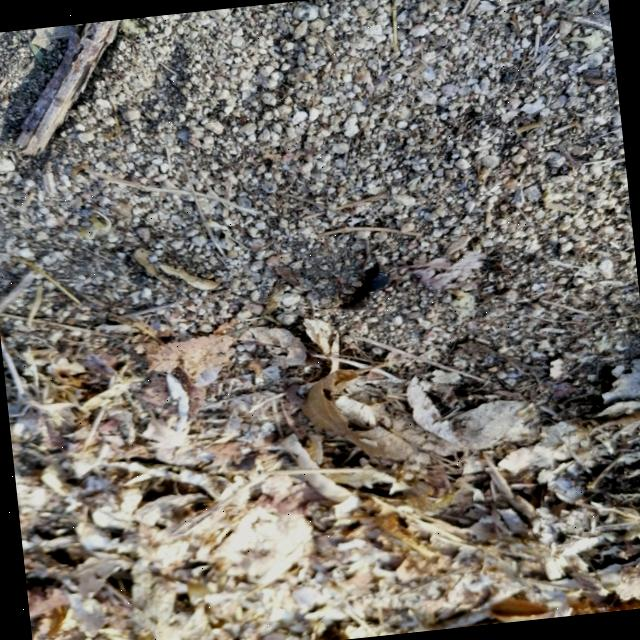Alive-Female-Dealate: (308, 239, 411, 319)
